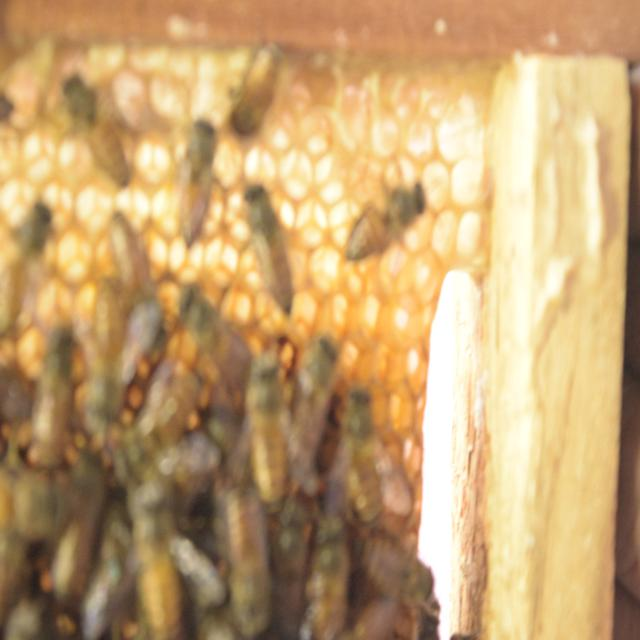honeybee: (348, 143, 437, 260), (215, 464, 274, 619), (70, 90, 148, 196), (236, 54, 318, 152), (125, 515, 188, 640), (243, 157, 297, 288), (235, 358, 290, 476), (167, 275, 228, 376), (128, 354, 192, 449), (30, 294, 75, 429), (172, 94, 217, 222), (329, 391, 381, 492), (372, 526, 438, 604), (54, 443, 99, 557), (8, 428, 60, 518), (0, 205, 53, 293), (292, 330, 338, 430), (87, 278, 122, 405), (304, 518, 348, 613)
